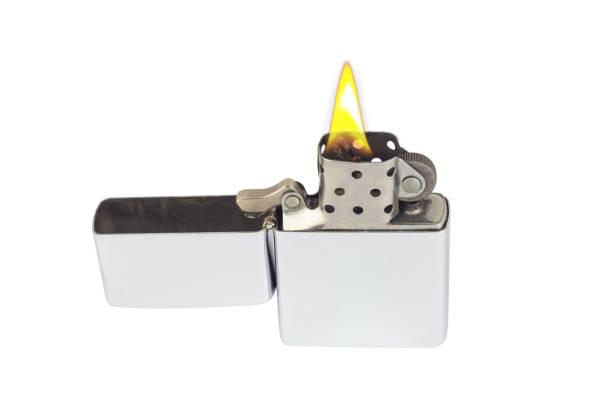Fire: (323, 50, 370, 152)
